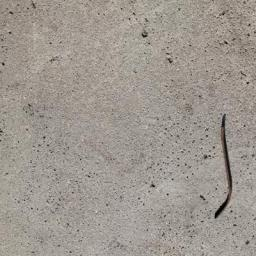FOD: (206, 122, 237, 220)
